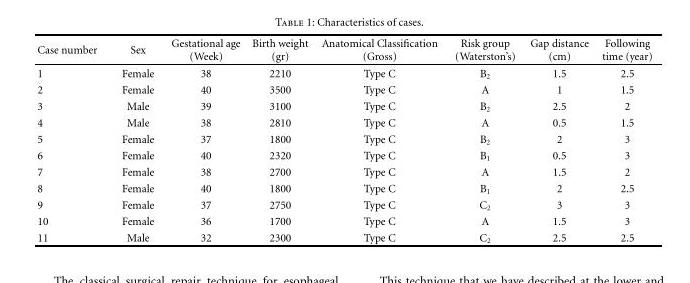table: (36, 36, 651, 243)
table column: (314, 36, 445, 243), (161, 36, 245, 243), (445, 36, 522, 243), (36, 36, 108, 243), (522, 36, 594, 243), (245, 36, 314, 243), (594, 36, 651, 243), (108, 36, 161, 243)
table column header: (36, 36, 651, 64)
table row: (36, 36, 651, 64), (36, 64, 651, 81), (36, 97, 651, 114), (36, 130, 651, 147), (36, 179, 651, 196), (36, 196, 651, 213), (36, 81, 651, 97), (36, 114, 651, 130), (36, 147, 651, 163), (36, 163, 651, 179), (36, 213, 651, 229), (36, 229, 651, 243)
